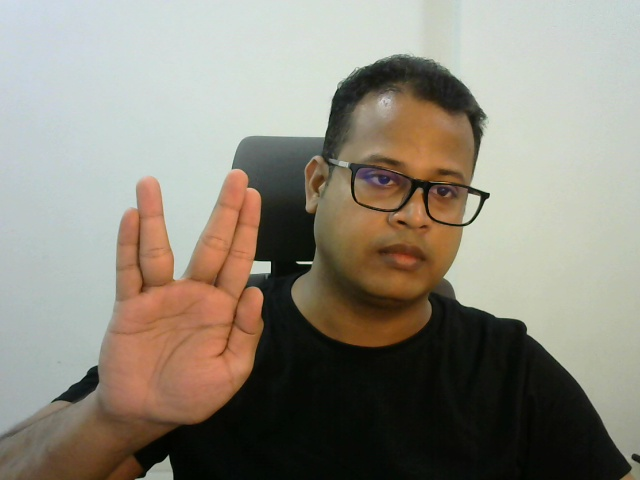LongLive: (97, 168, 265, 423)
